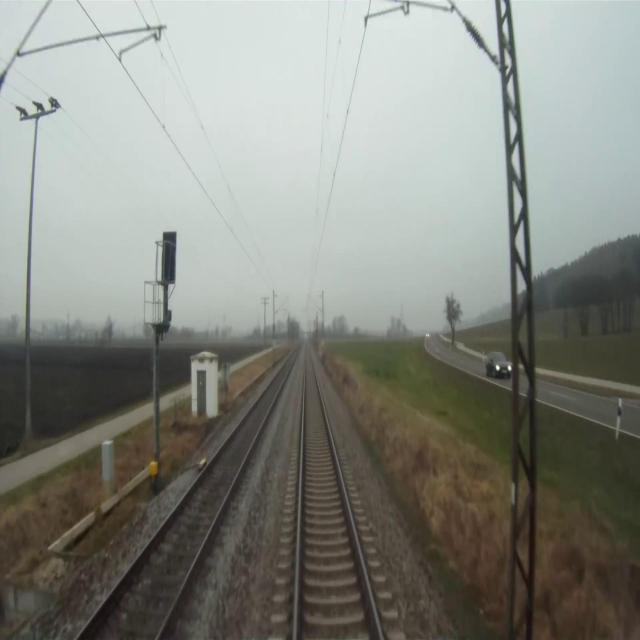rail-track: (79, 357, 293, 639), (298, 346, 380, 639)
